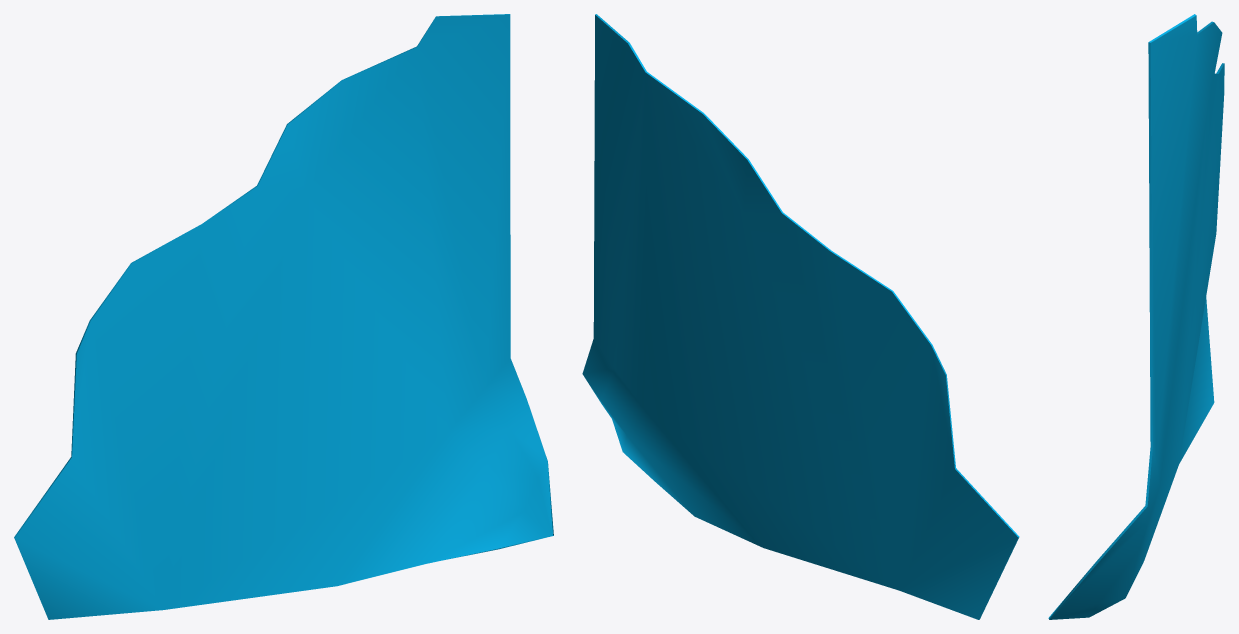
The model's file is PAPIER_MESH.FBX.
3 views of the same model, side by side, from view 1: azimuth 30°, elevation 25°; view 2: azimuth 150°, elevation 25°; view 3: azimuth 270°, elevation 25° (orthographic). The views are drawn at different scales.
Parts seen in each view (by area): view 1: Serviette_papier; view 2: Serviette_papier; view 3: Serviette_papier.
Boxes of the visible parts, bbox=[...] form: Serviette_papier: bbox=[14, 14, 553, 619]; Serviette_papier: bbox=[582, 14, 1019, 619]; Serviette_papier: bbox=[1048, 14, 1224, 619].
Size of the model in its own units: 8.14 by 8.38 by 2.16.
